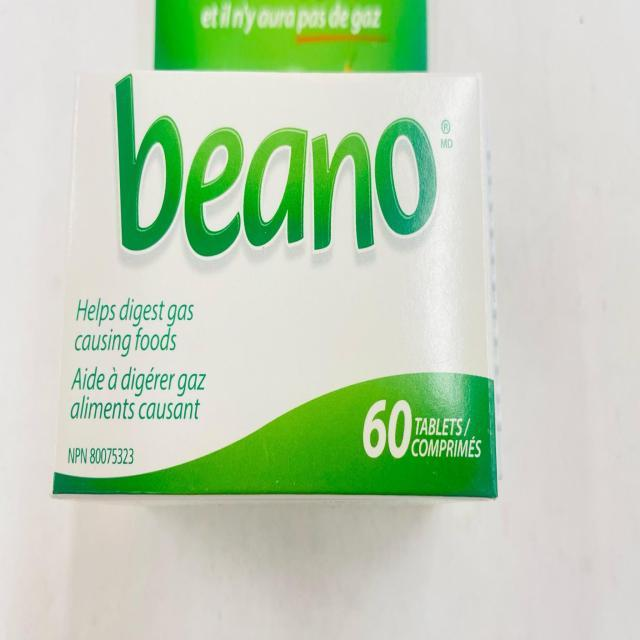Medicine Name: (107, 72, 441, 281)
